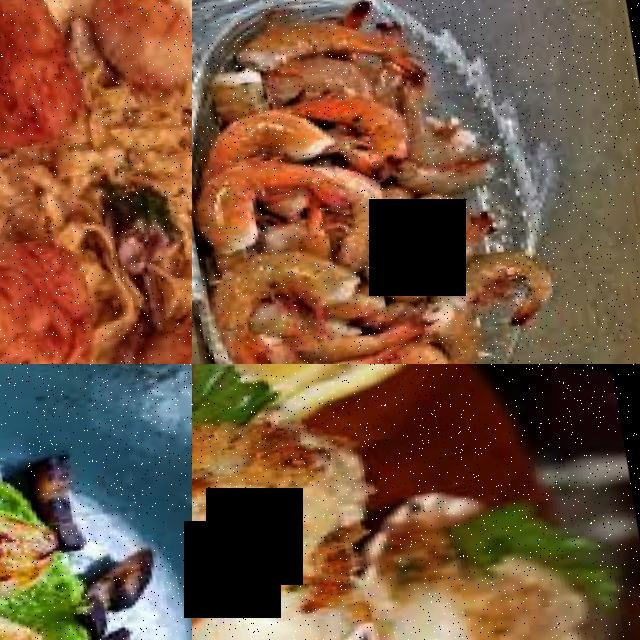sea scallops: (0, 594, 69, 640)
shrimp: (212, 225, 364, 323), (237, 0, 408, 82), (197, 143, 315, 261), (361, 221, 493, 306), (308, 148, 402, 260), (295, 290, 437, 364), (467, 229, 571, 323), (391, 130, 505, 200), (388, 175, 478, 233)
